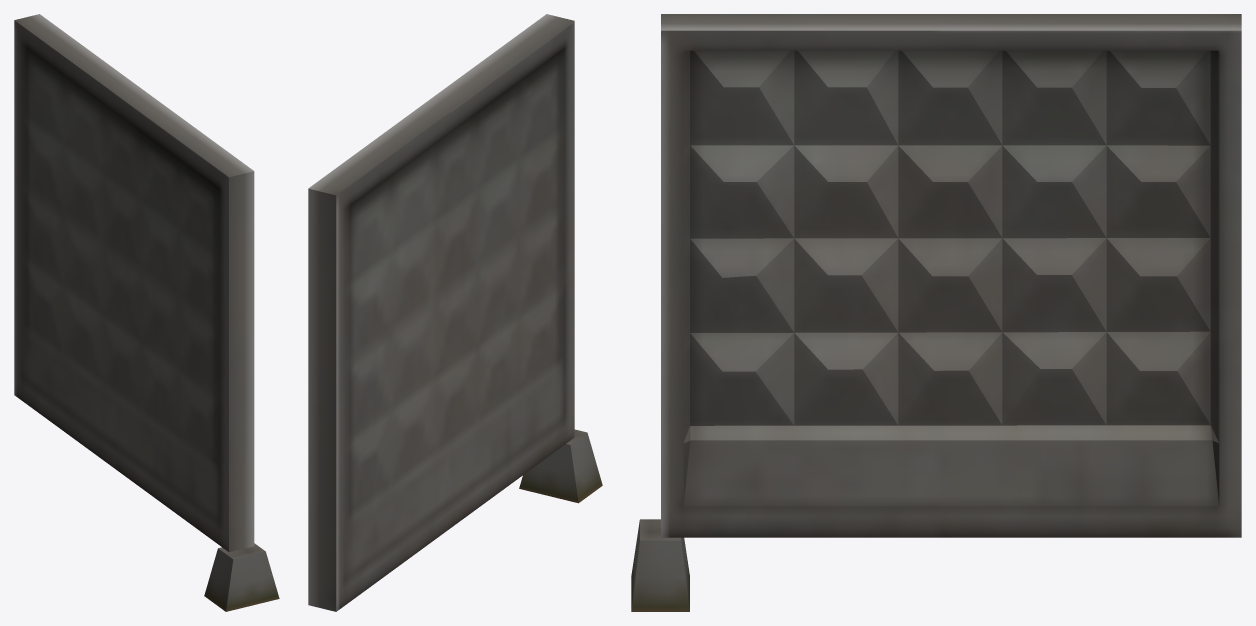
The model's file is bz_fence_PO2.fbx.
The picture shows the model from 3 angles, left to right: view 1: azimuth 30°, elevation 25°; view 2: azimuth 150°, elevation 25°; view 3: azimuth 270°, elevation 25°; orthographic projection. The views are drawn at different scales.
Parts seen in each view (by area): view 1: bz_fence_PO2, bz_fence_PO2support; view 2: bz_fence_PO2, bz_fence_PO2support; view 3: bz_fence_PO2, bz_fence_PO2support.
Boxes of the visible parts, x1=… form: bz_fence_PO2: x1=14, y1=14, x2=254, y2=552; bz_fence_PO2support: x1=204, y1=543, x2=279, y2=611; bz_fence_PO2: x1=308, y1=14, x2=574, y2=611; bz_fence_PO2support: x1=519, y1=429, x2=602, y2=503; bz_fence_PO2: x1=661, y1=14, x2=1241, y2=537; bz_fence_PO2support: x1=631, y1=519, x2=689, y2=611.
Bounding box in the file's own units: 0.3607 × 2.72 × 2.63.
